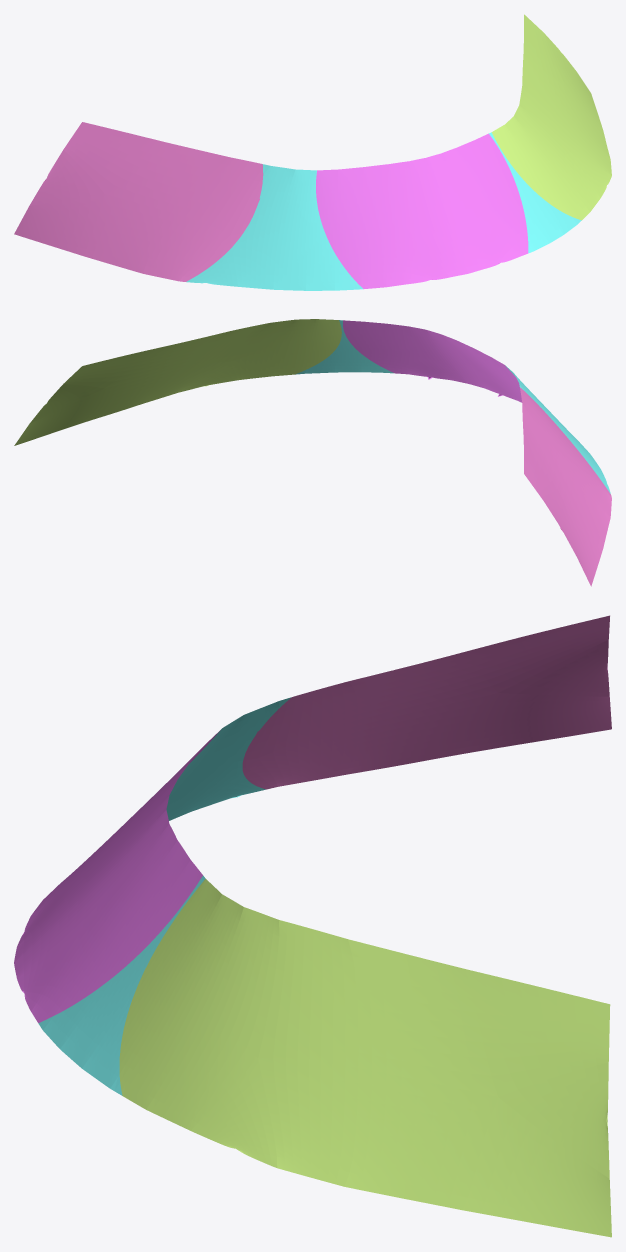
Rendered from Langas-mat-id.fbx.
3 views of the same model, one above another, from view 1: azimuth 30°, elevation 25°; view 2: azimuth 150°, elevation 25°; view 3: azimuth 270°, elevation 25° (orthographic). The views are drawn at different scales.
Parts seen in each view (by area): view 1: Langas_mat_id; view 2: Langas_mat_id; view 3: Langas_mat_id.
Part boxes in pixels (x1,y1,x2,y2): Langas_mat_id: [14, 14, 611, 290]; Langas_mat_id: [14, 319, 611, 586]; Langas_mat_id: [14, 615, 611, 1237].
Size of the model in its own units: 80.99 by 12.93 by 40.28.
